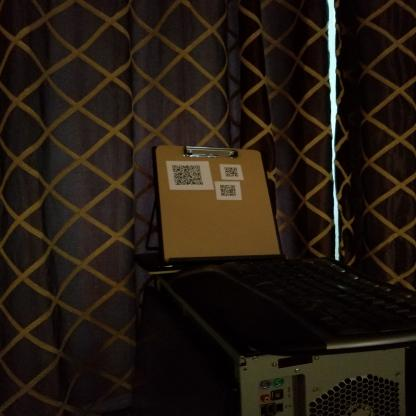qr: (171, 162, 206, 187), (218, 182, 239, 197), (223, 166, 242, 180)
